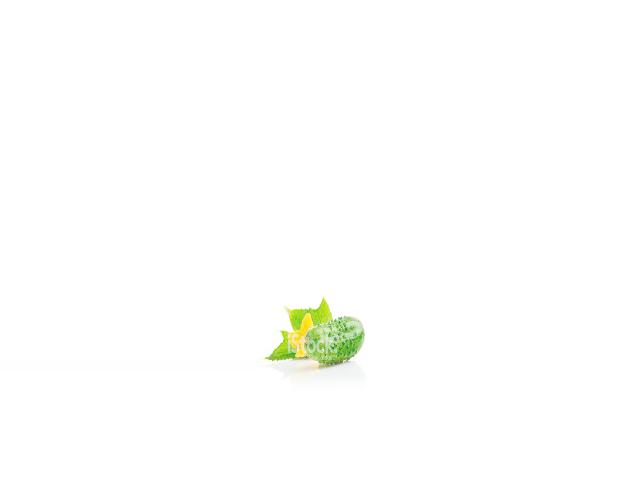cucumber: (305, 316, 365, 364)
